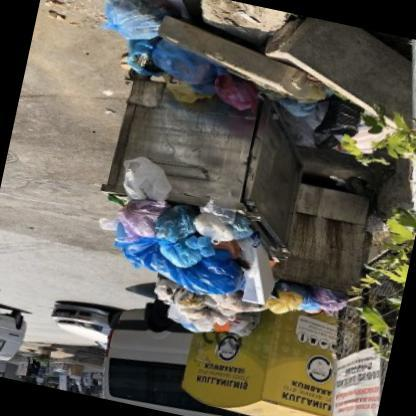Garbage: (128, 232, 227, 302), (176, 275, 248, 334), (115, 150, 182, 210), (124, 40, 201, 88), (224, 255, 290, 309), (265, 282, 340, 326), (95, 0, 162, 48), (190, 200, 254, 248), (120, 195, 168, 245), (158, 195, 204, 246), (158, 225, 213, 262), (160, 280, 208, 320), (218, 77, 252, 118), (113, 230, 148, 263), (170, 74, 205, 106), (280, 97, 313, 125), (268, 292, 302, 316), (182, 315, 212, 341), (312, 292, 340, 317), (293, 296, 326, 314), (88, 212, 116, 233), (227, 295, 251, 314)
